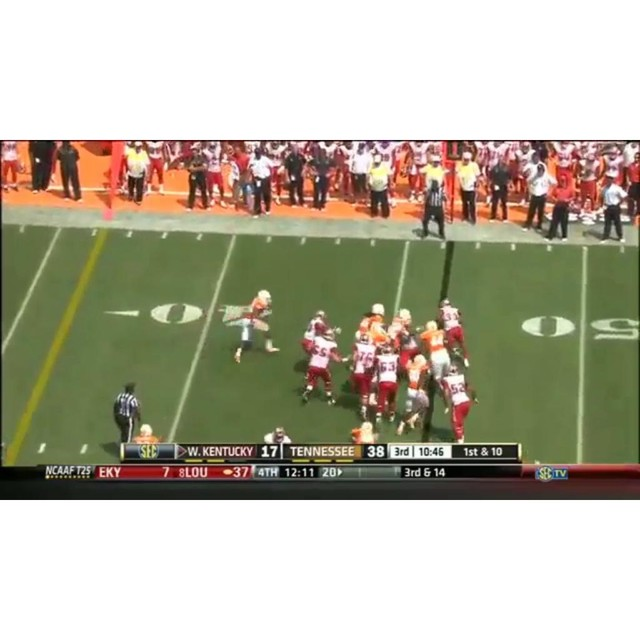american-football-player: (437, 362, 478, 443), (300, 328, 342, 407), (234, 289, 278, 364), (438, 299, 470, 368), (417, 320, 452, 379), (374, 346, 401, 422), (357, 301, 388, 342)
referee: (112, 381, 142, 446)
